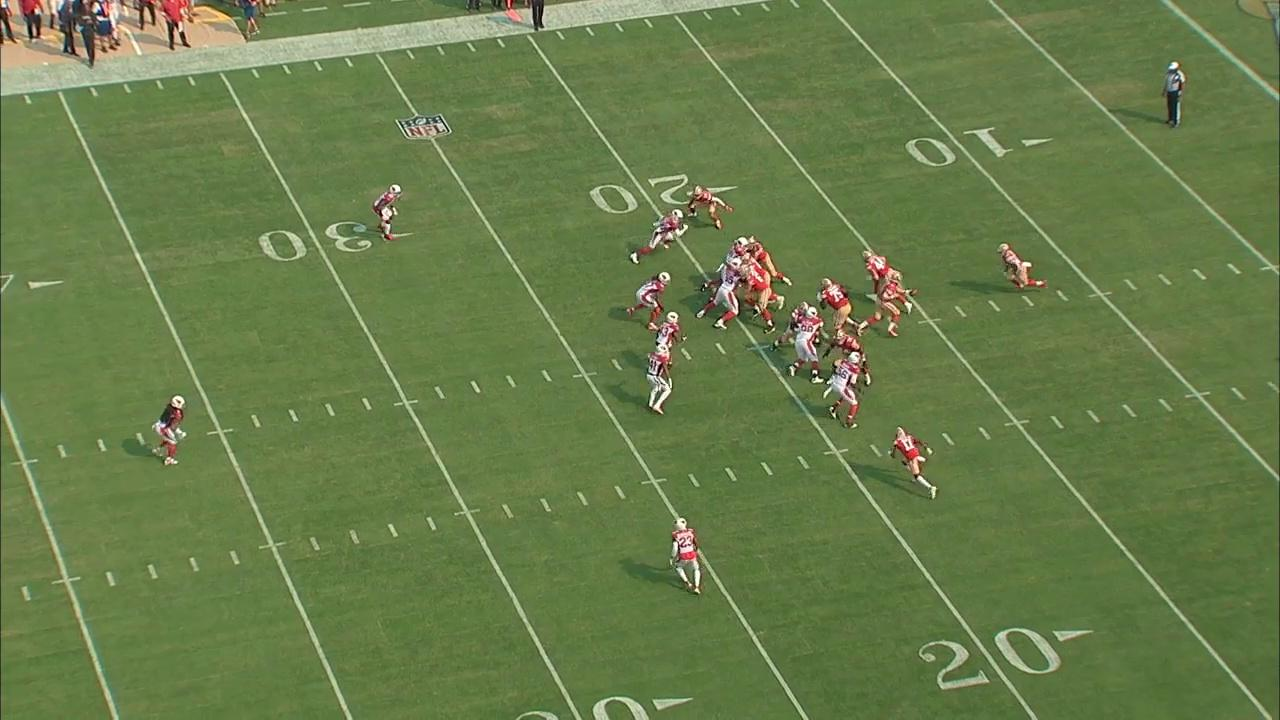defense: (694, 257, 747, 331), (629, 207, 689, 266), (782, 306, 825, 386), (149, 391, 191, 469), (826, 349, 865, 432), (624, 269, 672, 333), (667, 514, 704, 597), (699, 234, 749, 294), (652, 311, 690, 373), (644, 343, 673, 418), (370, 182, 404, 244)
oline: (821, 329, 874, 389), (768, 299, 822, 356), (747, 232, 794, 289), (814, 275, 861, 331), (739, 265, 776, 336), (744, 253, 787, 312)
qb: (855, 270, 921, 342)
ref: (1158, 59, 1188, 131)
skill: (884, 424, 943, 504), (860, 251, 915, 318), (996, 241, 1051, 293), (684, 182, 735, 231)
